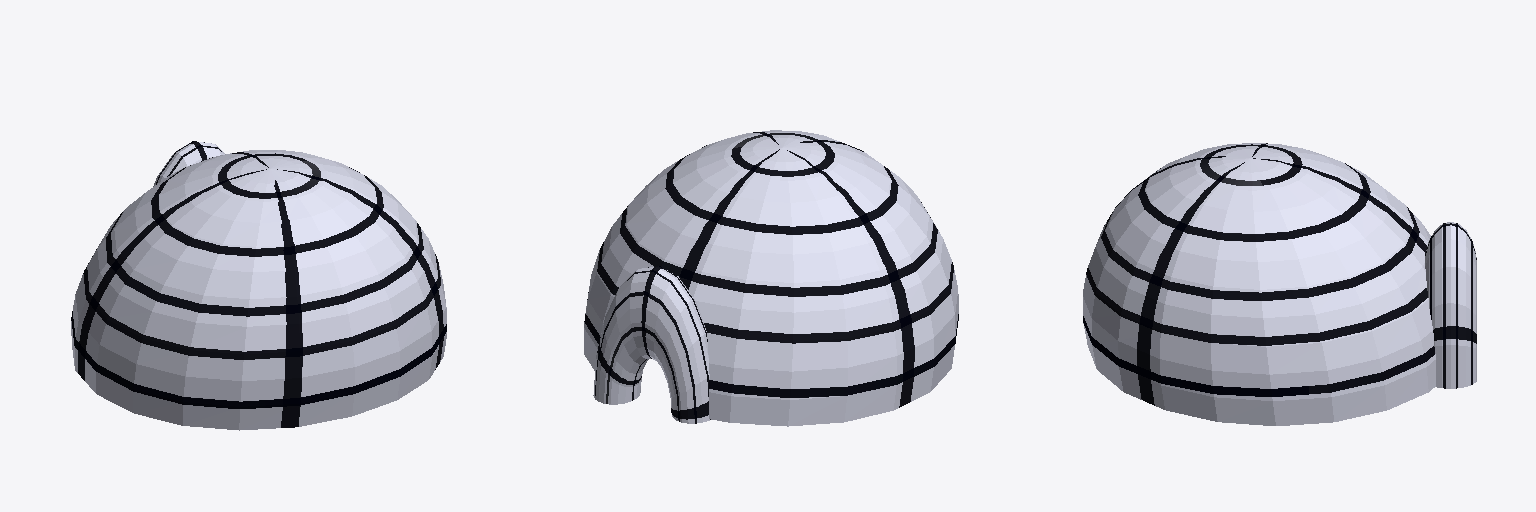
3 renders of one model, left to right at view 1: azimuth 30°, elevation 25°; view 2: azimuth 150°, elevation 25°; view 3: azimuth 270°, elevation 25°, orthographic.
Visible parts, largest first — view 1: pTorus2; view 2: pTorus2; view 3: pTorus2.
Boxes of the visible parts, x1=… form: pTorus2: x1=71, y1=141, x2=446, y2=430; pTorus2: x1=584, y1=130, x2=958, y2=426; pTorus2: x1=1083, y1=143, x2=1476, y2=425.
Size of the model in its own units: 2 by 1.15 by 2.1.
Materials: 2 (1 with a texture image).